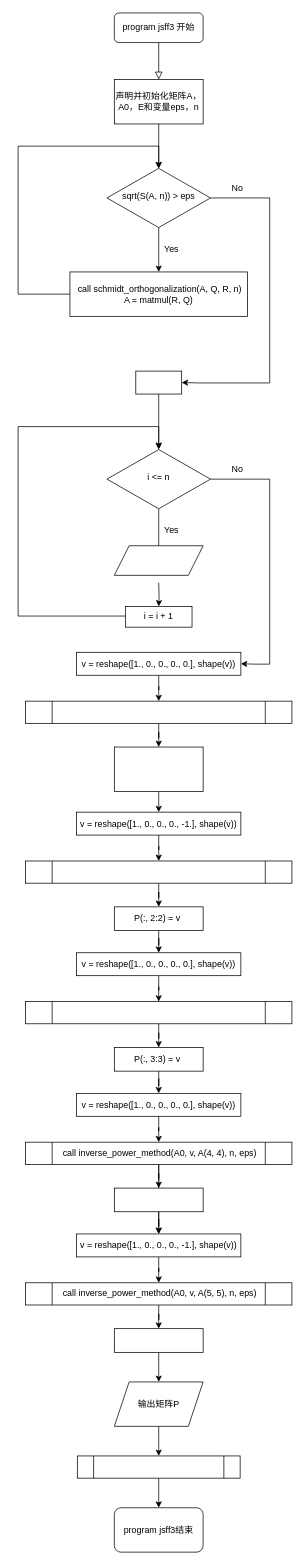
The diagram is 305 pixels wide and 1565 high, and some of its shapes have lost their labels. The centre of each missing label's shape, as x and y in pixels:
"call inverse_power_method(A0, v, A(1, 1), n, eps)" belongs at [158,711].
"call inverse_power_method(A0, v, A(2, 2), n, eps)" belongs at [158,871].
"call inverse_power_method(A0, v, A(3, 3), n, eps)" belongs at [158,1012].
"call power_method(A0, n, eps)" belongs at [158,1466].
"i = 1" belongs at [158,382].
"P(:, 1:1) = v" belongs at [158,768].
"P(:, 4:4) = v" belongs at [158,1199].
"P(:, 5:5) = v" belongs at [158,1340].
"输出A(i, i)" belongs at [158,560].
